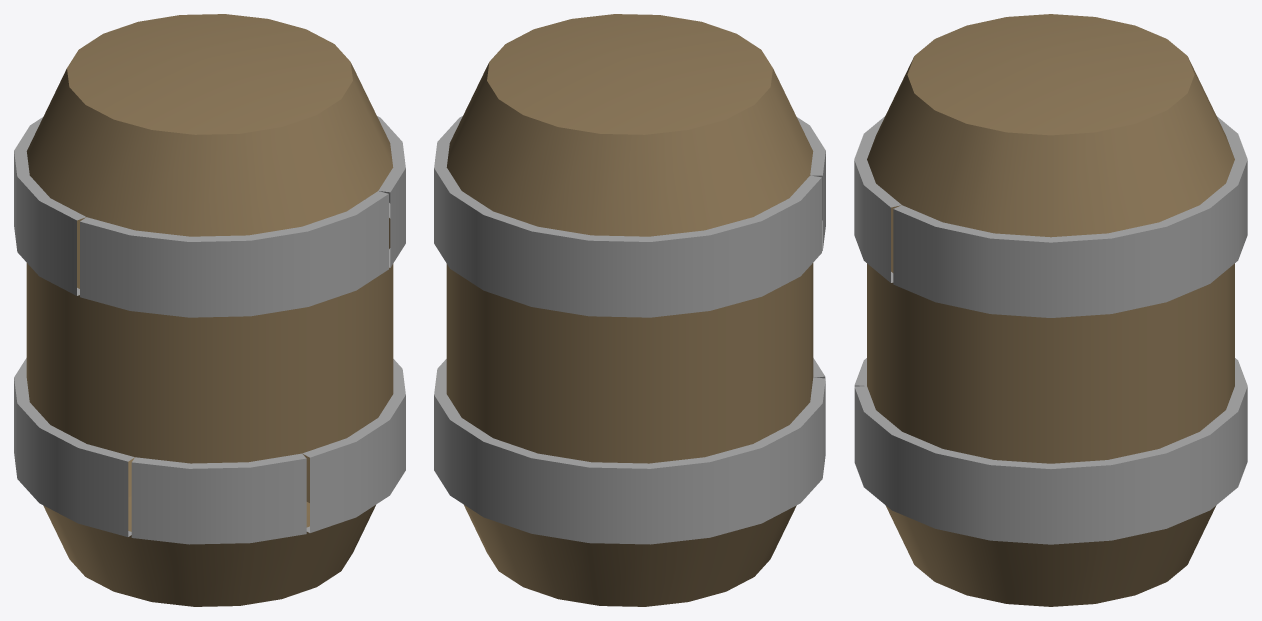
File: barrel.fbx
3 renders of one model, left to right at view 1: azimuth 30°, elevation 25°; view 2: azimuth 150°, elevation 25°; view 3: azimuth 270°, elevation 25°, orthographic.
Parts seen in each view (by area): view 1: pCylinder1, pCylinder2; view 2: pCylinder1, pCylinder2; view 3: pCylinder1, pCylinder2.
Part boxes in pixels (box(x1,y1,x2,y2)): pCylinder1: box(26, 14, 393, 606); pCylinder2: box(14, 116, 405, 544); pCylinder1: box(446, 14, 813, 606); pCylinder2: box(434, 116, 825, 544); pCylinder1: box(867, 14, 1234, 606); pCylinder2: box(854, 116, 1247, 544).
Size of the model in its own units: 12.48 by 17.42 by 12.48.
